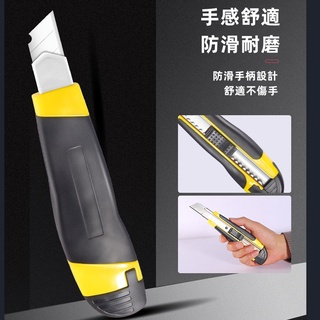cutter: (25, 9, 147, 316), (178, 114, 286, 193), (186, 202, 269, 265)
